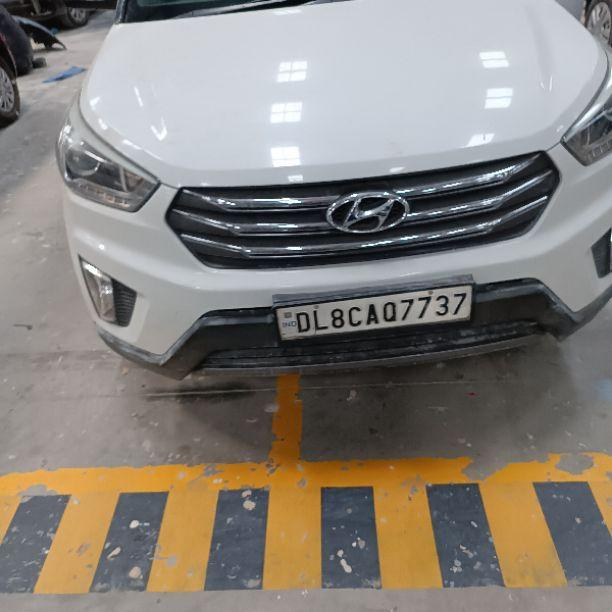license_plate: (272, 281, 474, 342)
